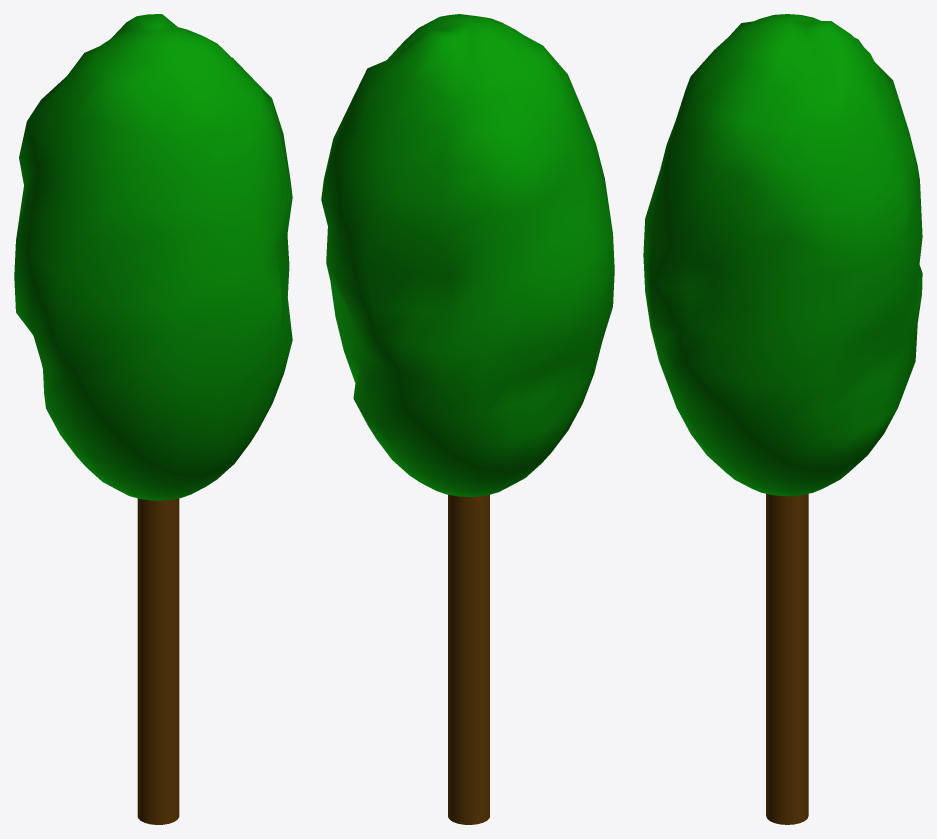
File: tree4.fbx
The picture shows the model from 3 angles, left to right: view 1: azimuth 30°, elevation 25°; view 2: azimuth 150°, elevation 25°; view 3: azimuth 270°, elevation 25°; orthographic projection.
Visible parts, largest first — view 1: flower, wood; view 2: flower, wood; view 3: flower, wood.
Part boxes in pixels (x1=…): flower: x1=14, y1=14, x2=292, y2=500; wood: x1=137, y1=498, x2=179, y2=824; flower: x1=321, y1=14, x2=614, y2=496; wood: x1=448, y1=494, x2=489, y2=824; flower: x1=643, y1=14, x2=922, y2=496; wood: x1=766, y1=494, x2=808, y2=824.
Bounding box in the file's own units: 1.44 × 4.27 × 1.36.
